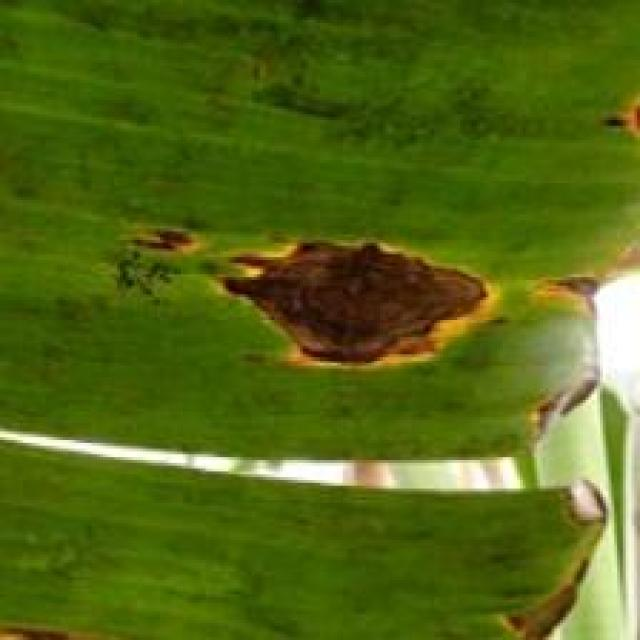Bacterial_spot: (225, 209, 517, 377), (106, 206, 205, 285), (488, 565, 588, 640), (529, 261, 615, 321), (544, 477, 616, 538), (522, 381, 570, 448), (600, 90, 640, 170), (0, 603, 74, 640)
